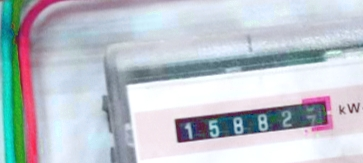1: (182, 118, 196, 138)
2: (280, 106, 294, 126)
5: (207, 115, 221, 136)
7: (306, 110, 318, 125)
8: (232, 112, 246, 134), (257, 109, 271, 131)
screen: (166, 87, 344, 150)
